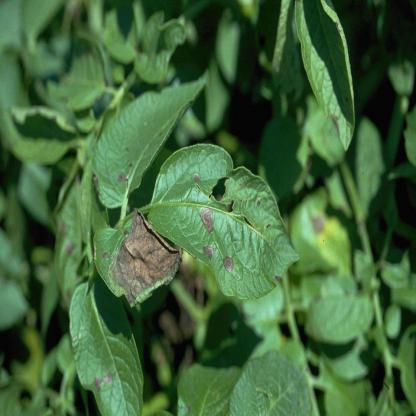Potato leaf late blight: (147, 140, 301, 305), (94, 204, 182, 317)
